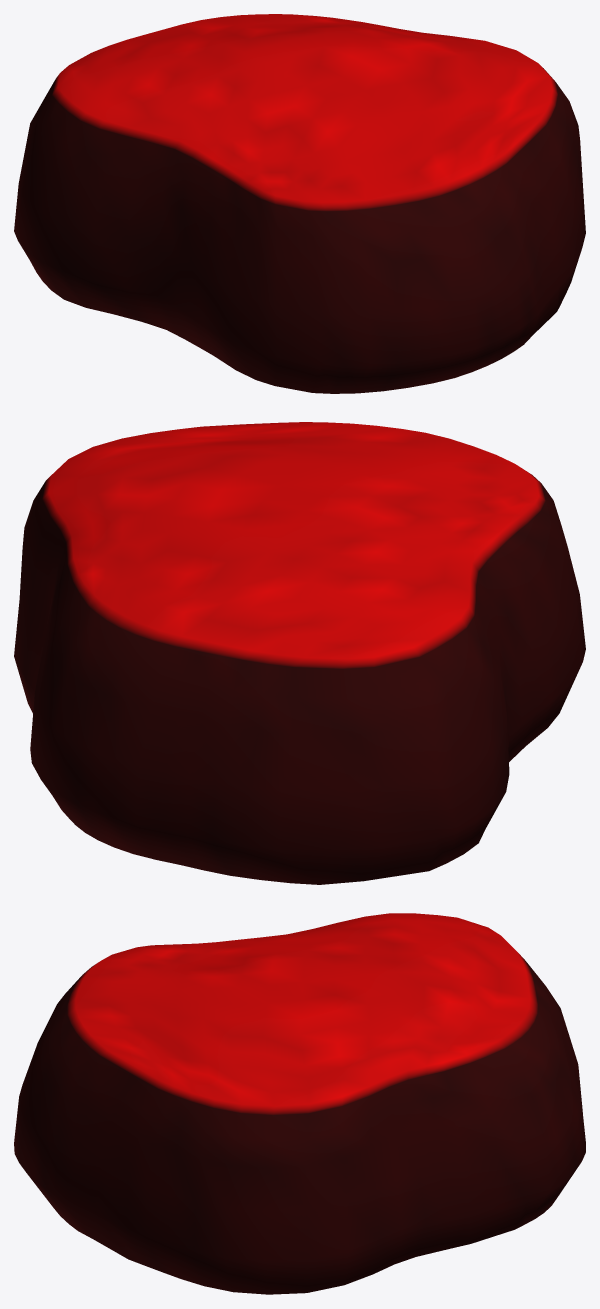
The model's file is geology-landforms-icehilltiny_v3.fbx.
3 renders of one model, top to bottom at view 1: azimuth 30°, elevation 25°; view 2: azimuth 150°, elevation 25°; view 3: azimuth 270°, elevation 25°, orthographic. The views are drawn at different scales.
Visible parts, largest first — view 1: IceHillTiny_v3; view 2: IceHillTiny_v3; view 3: IceHillTiny_v3.
Part boxes in pixels (x1,y1,x2,y2): IceHillTiny_v3: (14,14,585,393); IceHillTiny_v3: (14,422,585,884); IceHillTiny_v3: (14,913,585,1294).
Bounding box in the file's own units: 37.41 × 15.88 × 40.88.
